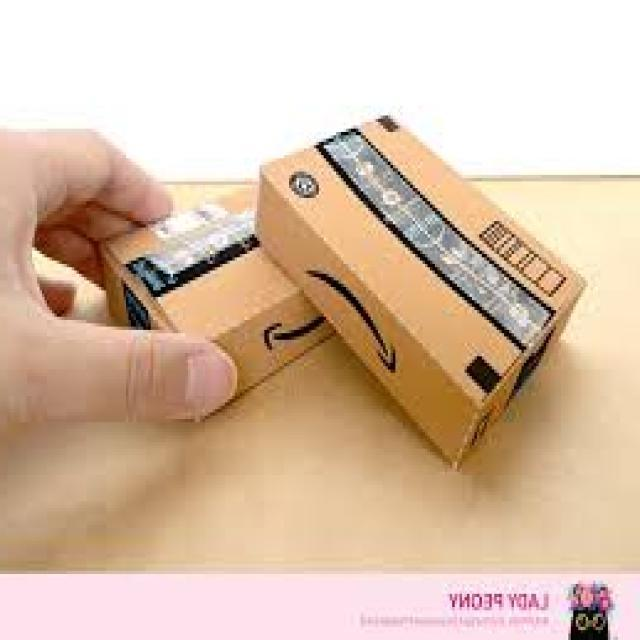cardboxes: (255, 119, 583, 469)
